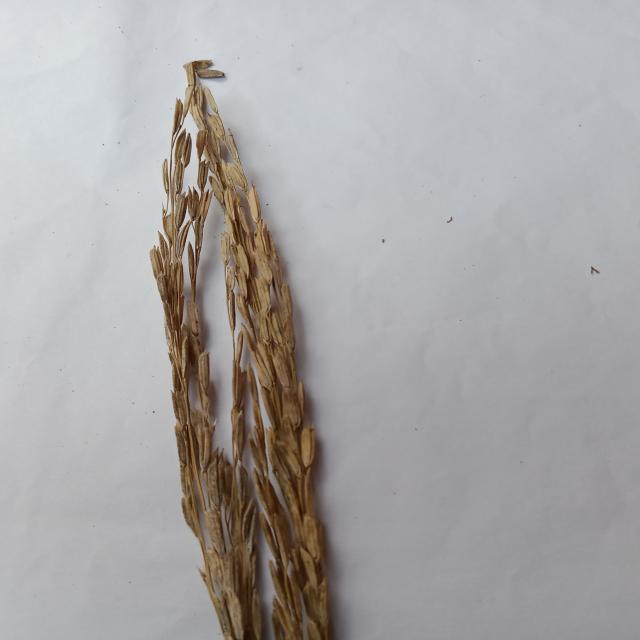Neck_Blast: (199, 59, 332, 640), (158, 79, 263, 640)
